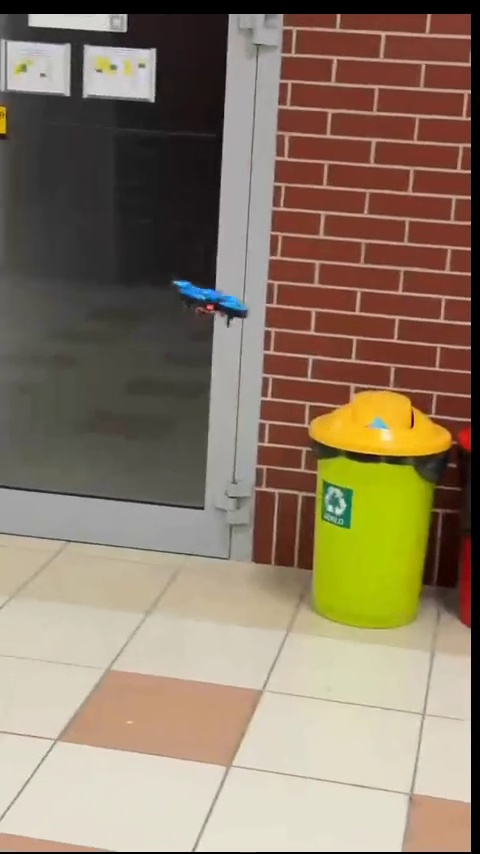drone: (166, 276, 242, 325)
